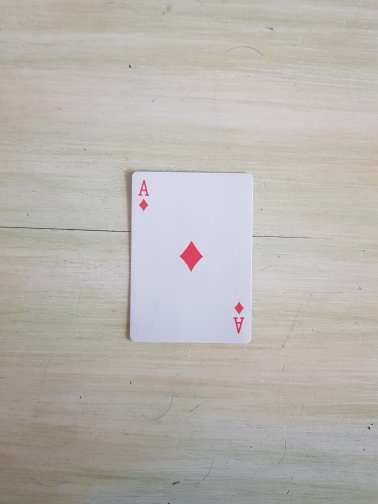ace: (128, 172, 255, 345)
